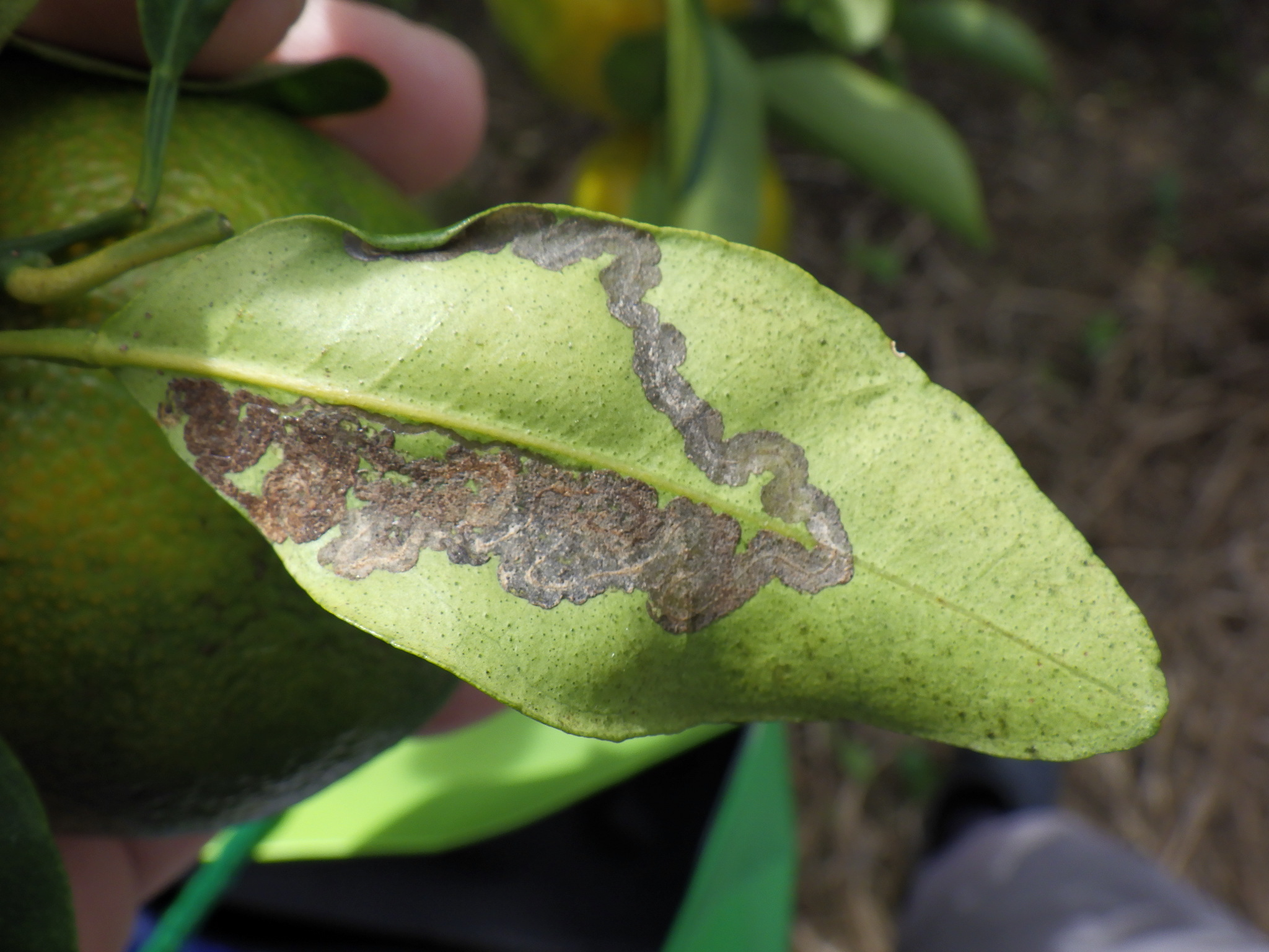Citrus_Leaf_Miner: (161, 225, 853, 633)
